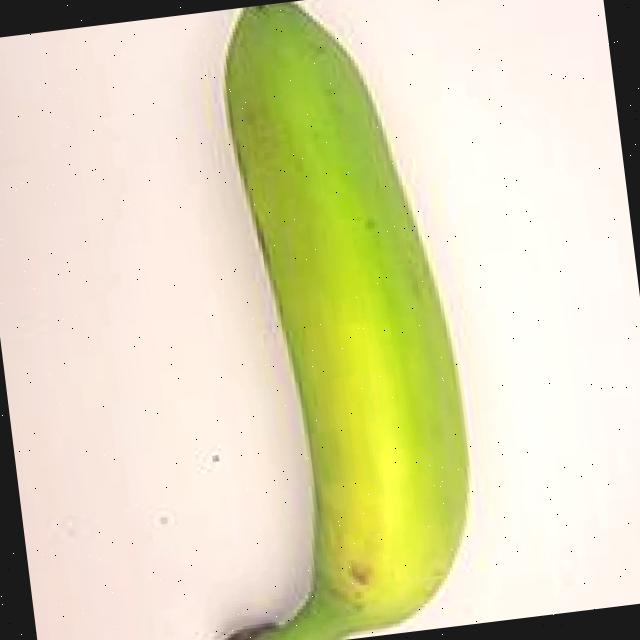Unripe: (102, 0, 517, 640)
